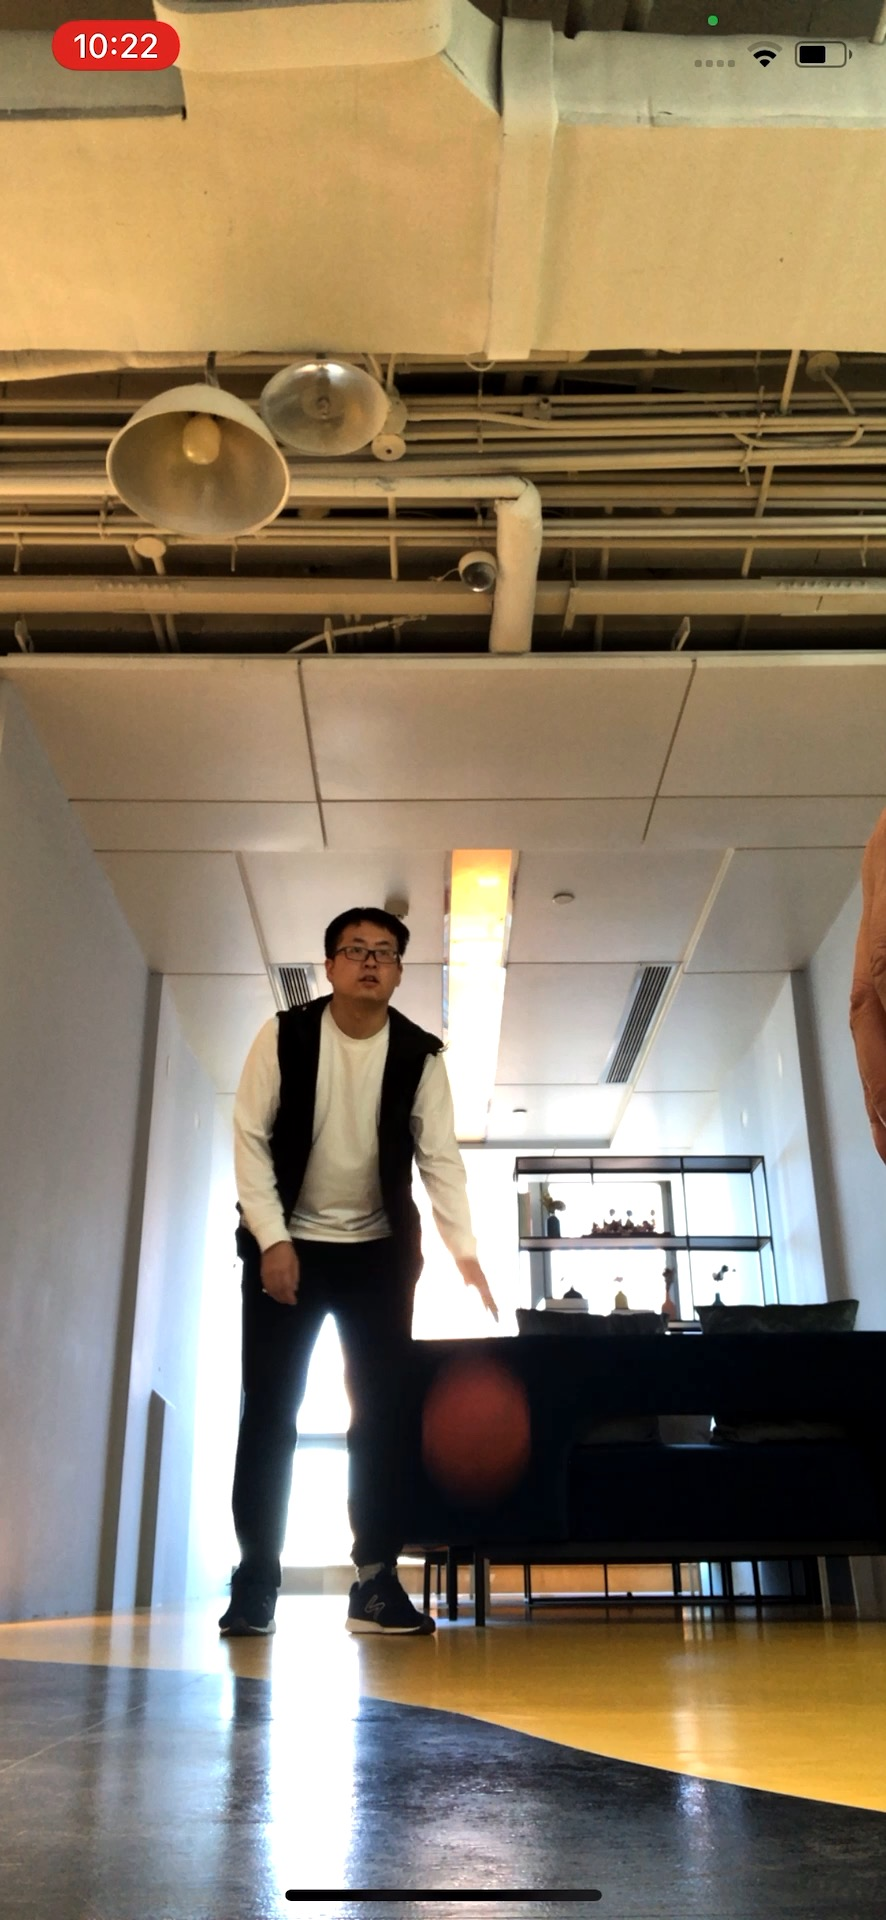ball: (419, 1370, 527, 1480)
